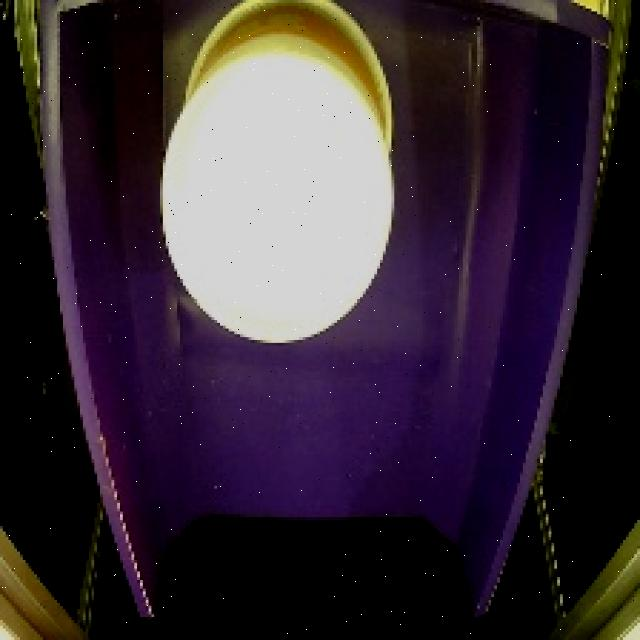cups: (151, 0, 406, 360)
